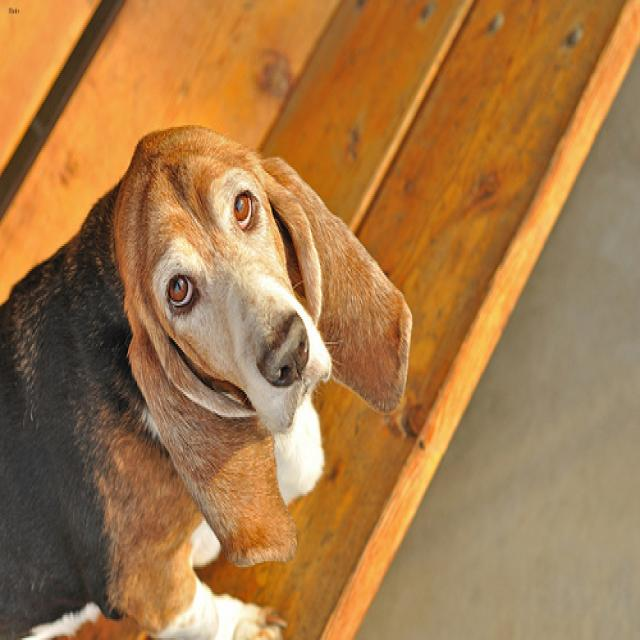dog-basset_hound: (1, 111, 421, 636)
